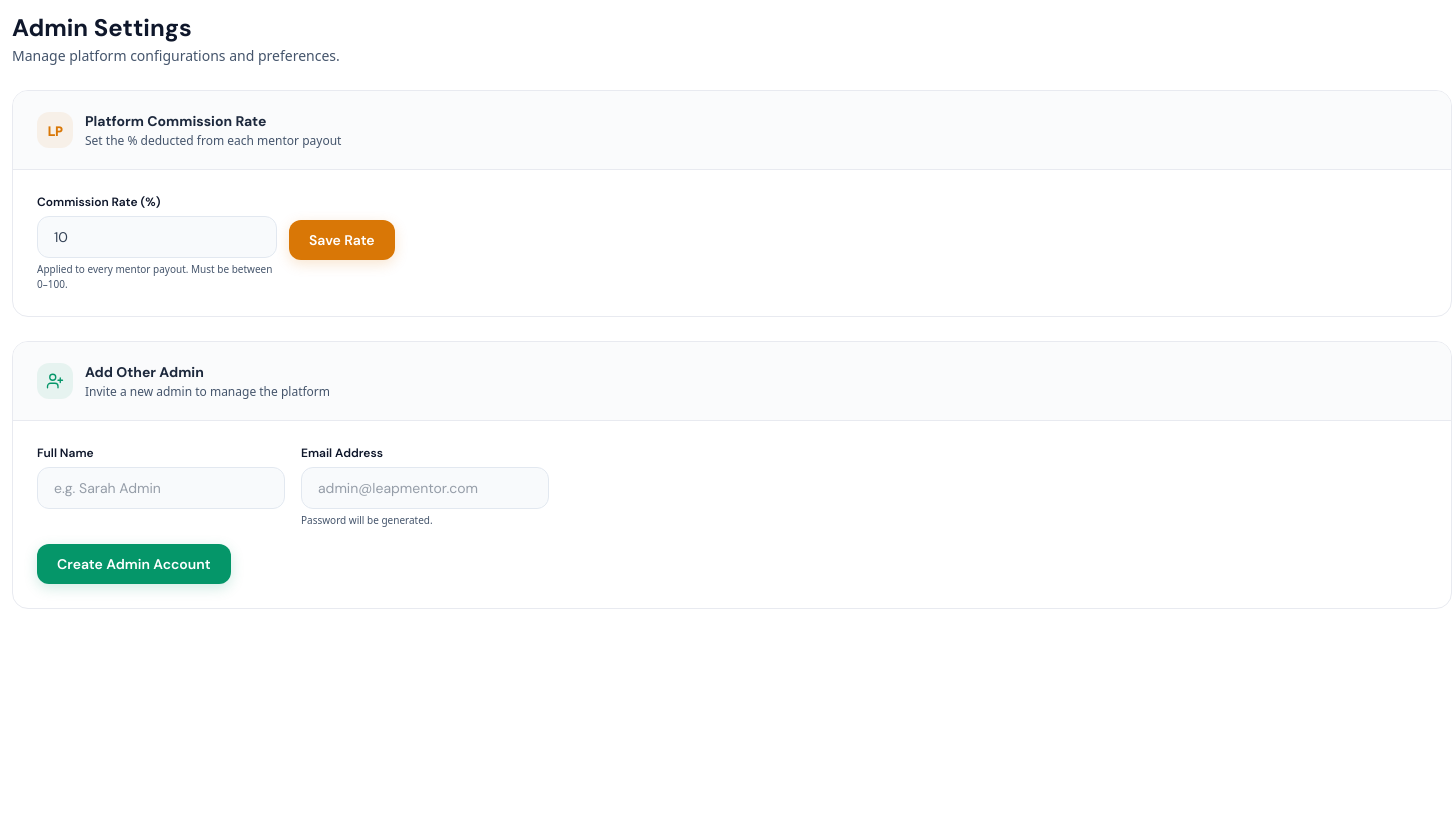
Test case: AdminSettings › shows validation errors for empty admin name and invalid email
Expected: the number field labelled "Commission Rate (%)" holds "10", [37, 216, 277, 258]
Type "not-an-email" into the field labelled "Email Address" at point(425, 488), box [301, 467, 549, 509]
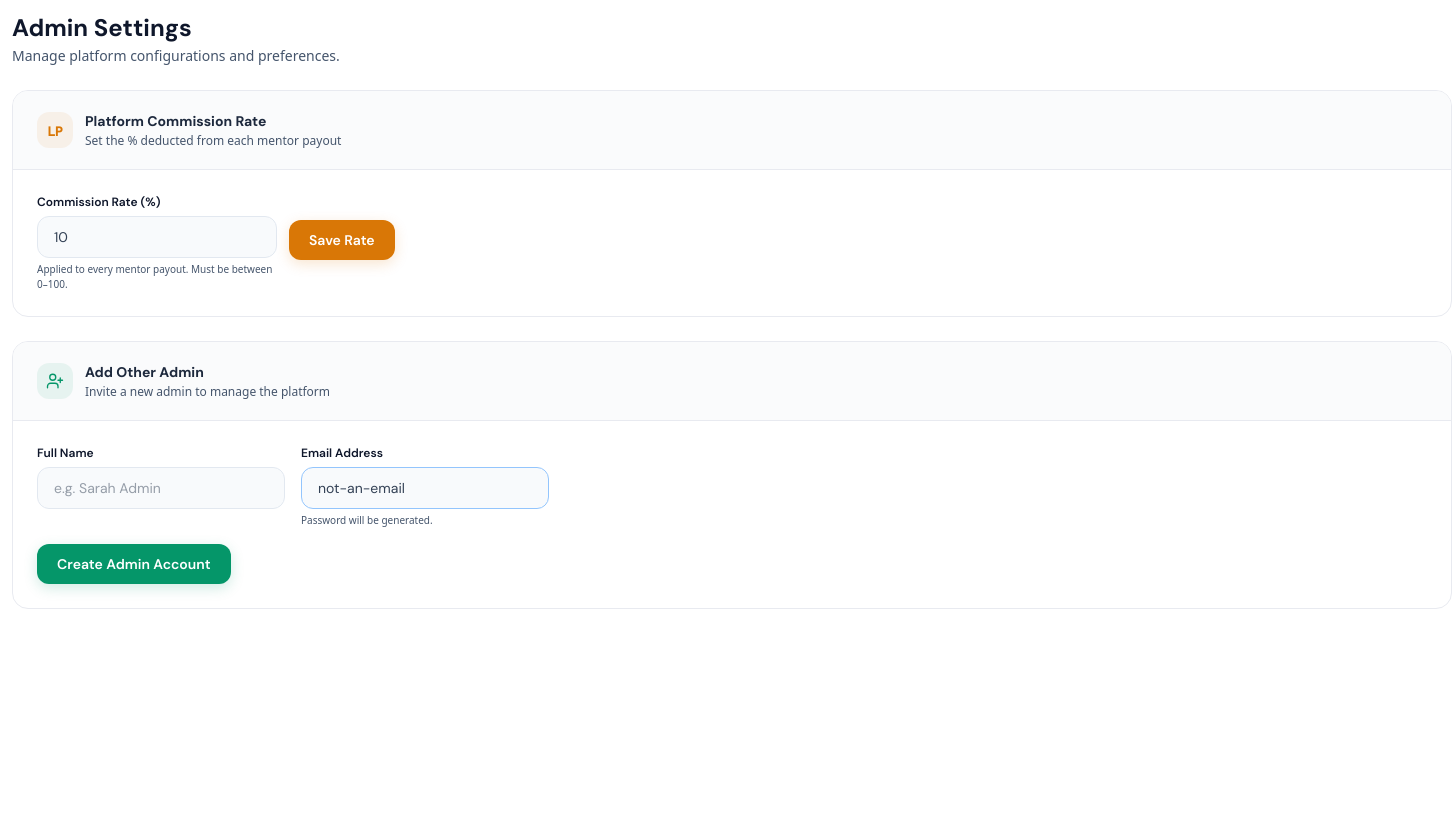
Click the button "Create Admin Account" at point(134, 564), box [37, 544, 231, 584]
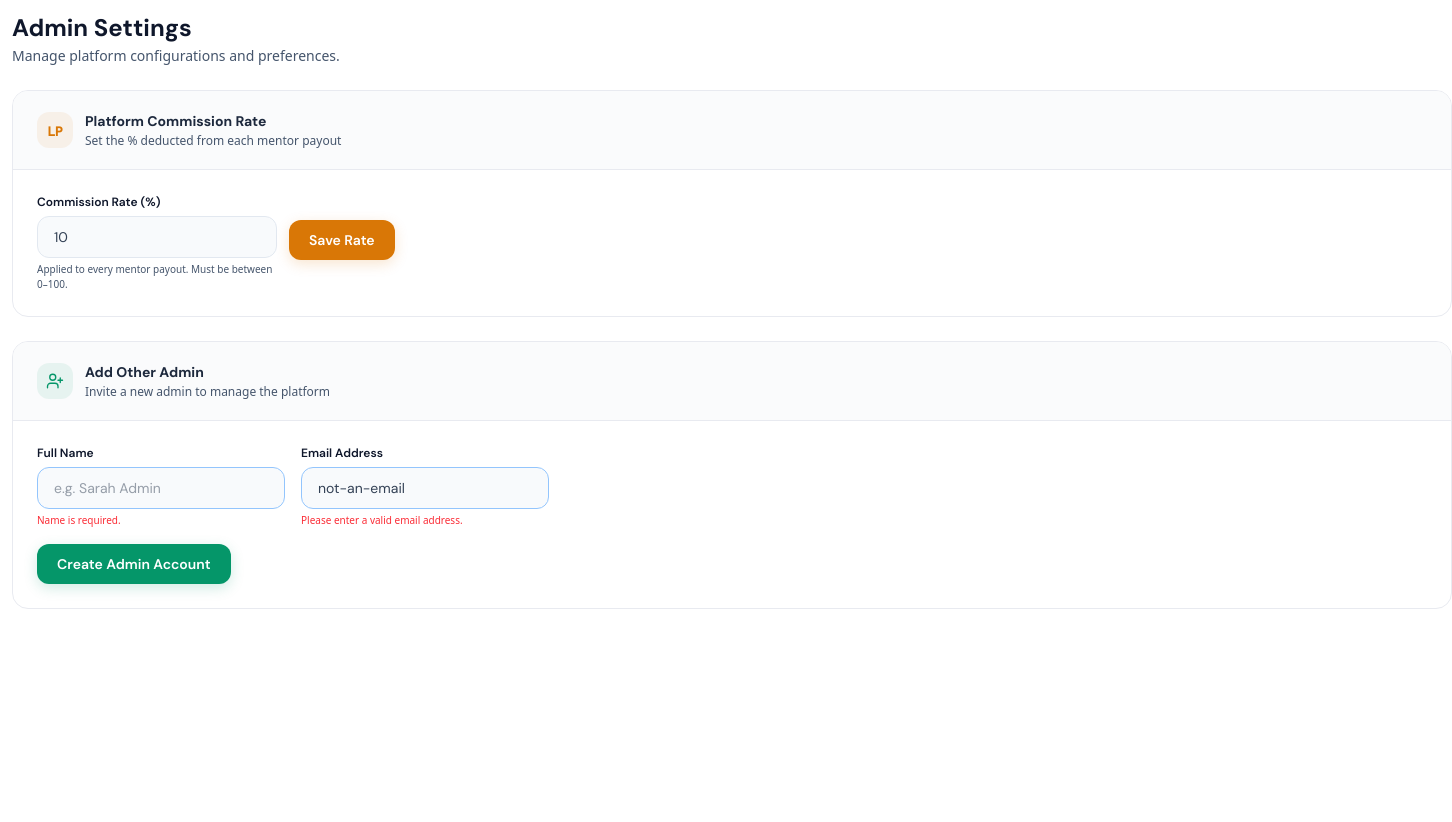
Expected: the text "Name is required." is shown, [37, 513, 121, 527]
Expected: the text "Please enter a valid email address." is shown, [301, 513, 463, 527]
